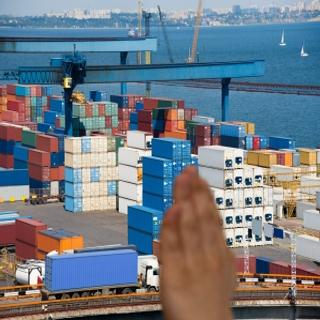RIGHT: (151, 161, 240, 320)
